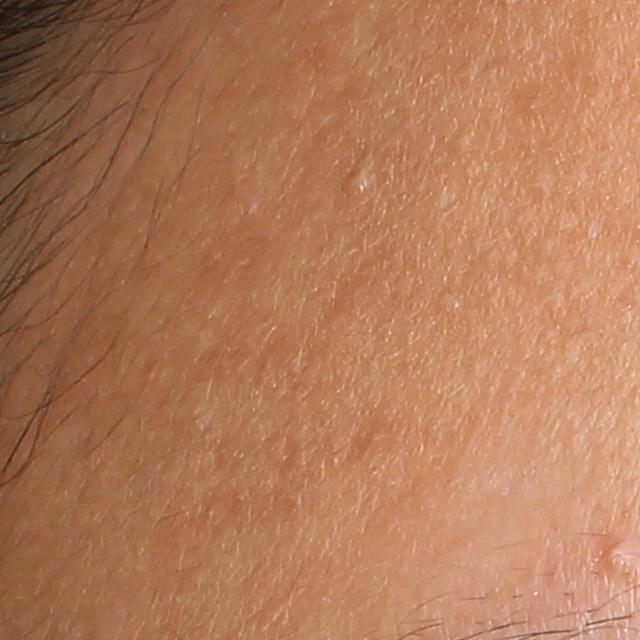comedo: (345, 167, 376, 202), (452, 130, 479, 151)
papule: (600, 542, 637, 584)
